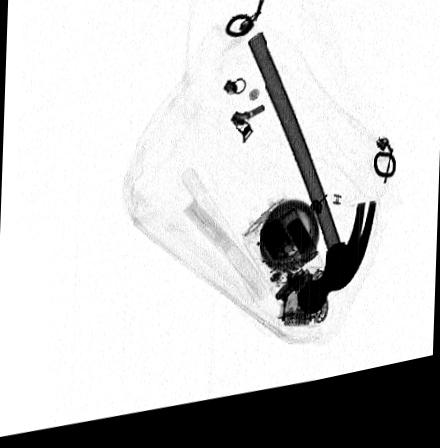Hammer: (245, 41, 376, 329)
